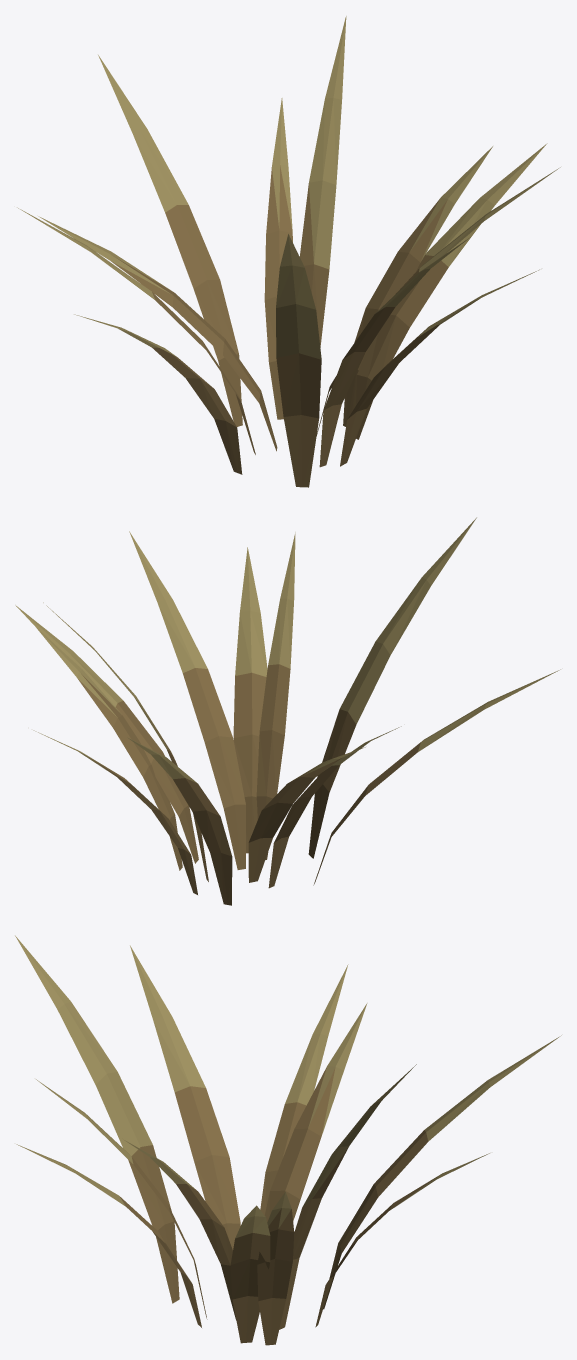
File: grass_tuft_a_autumn.glb
The picture shows the model from 3 angles, top to bottom: view 1: azimuth 30°, elevation 25°; view 2: azimuth 150°, elevation 25°; view 3: azimuth 270°, elevation 25°; orthographic projection. The views are drawn at different scales.
Parts seen in each view (by area): view 1: geometry; view 2: geometry; view 3: geometry.
Boxes of the visible parts, bbox=[...] form: geometry: bbox=[17, 16, 560, 487]; geometry: bbox=[15, 517, 560, 905]; geometry: bbox=[15, 935, 561, 1345].
Bounding box in the file's own units: 0.4008 × 0.24 × 0.3717.
